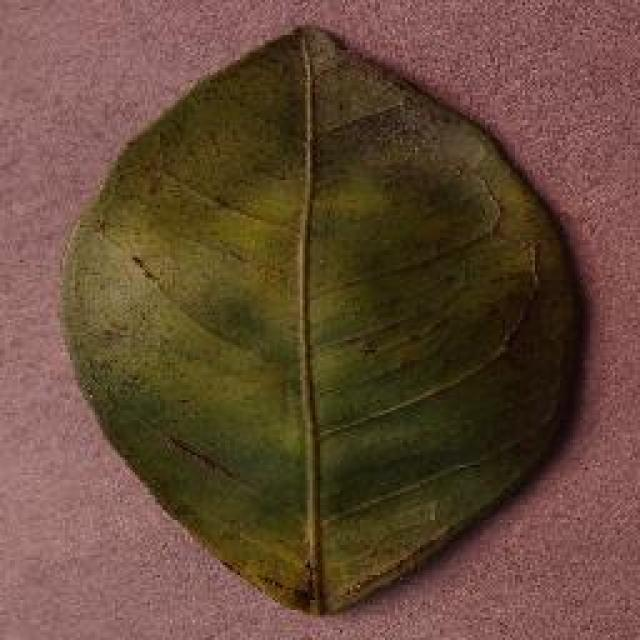Orange_Haunglongbing_Citrus_greening: (115, 124, 525, 546)
